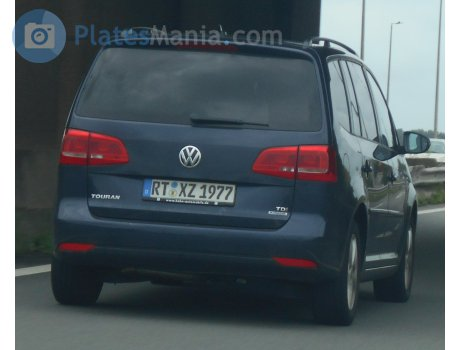License Plates: (151, 178, 230, 197)
